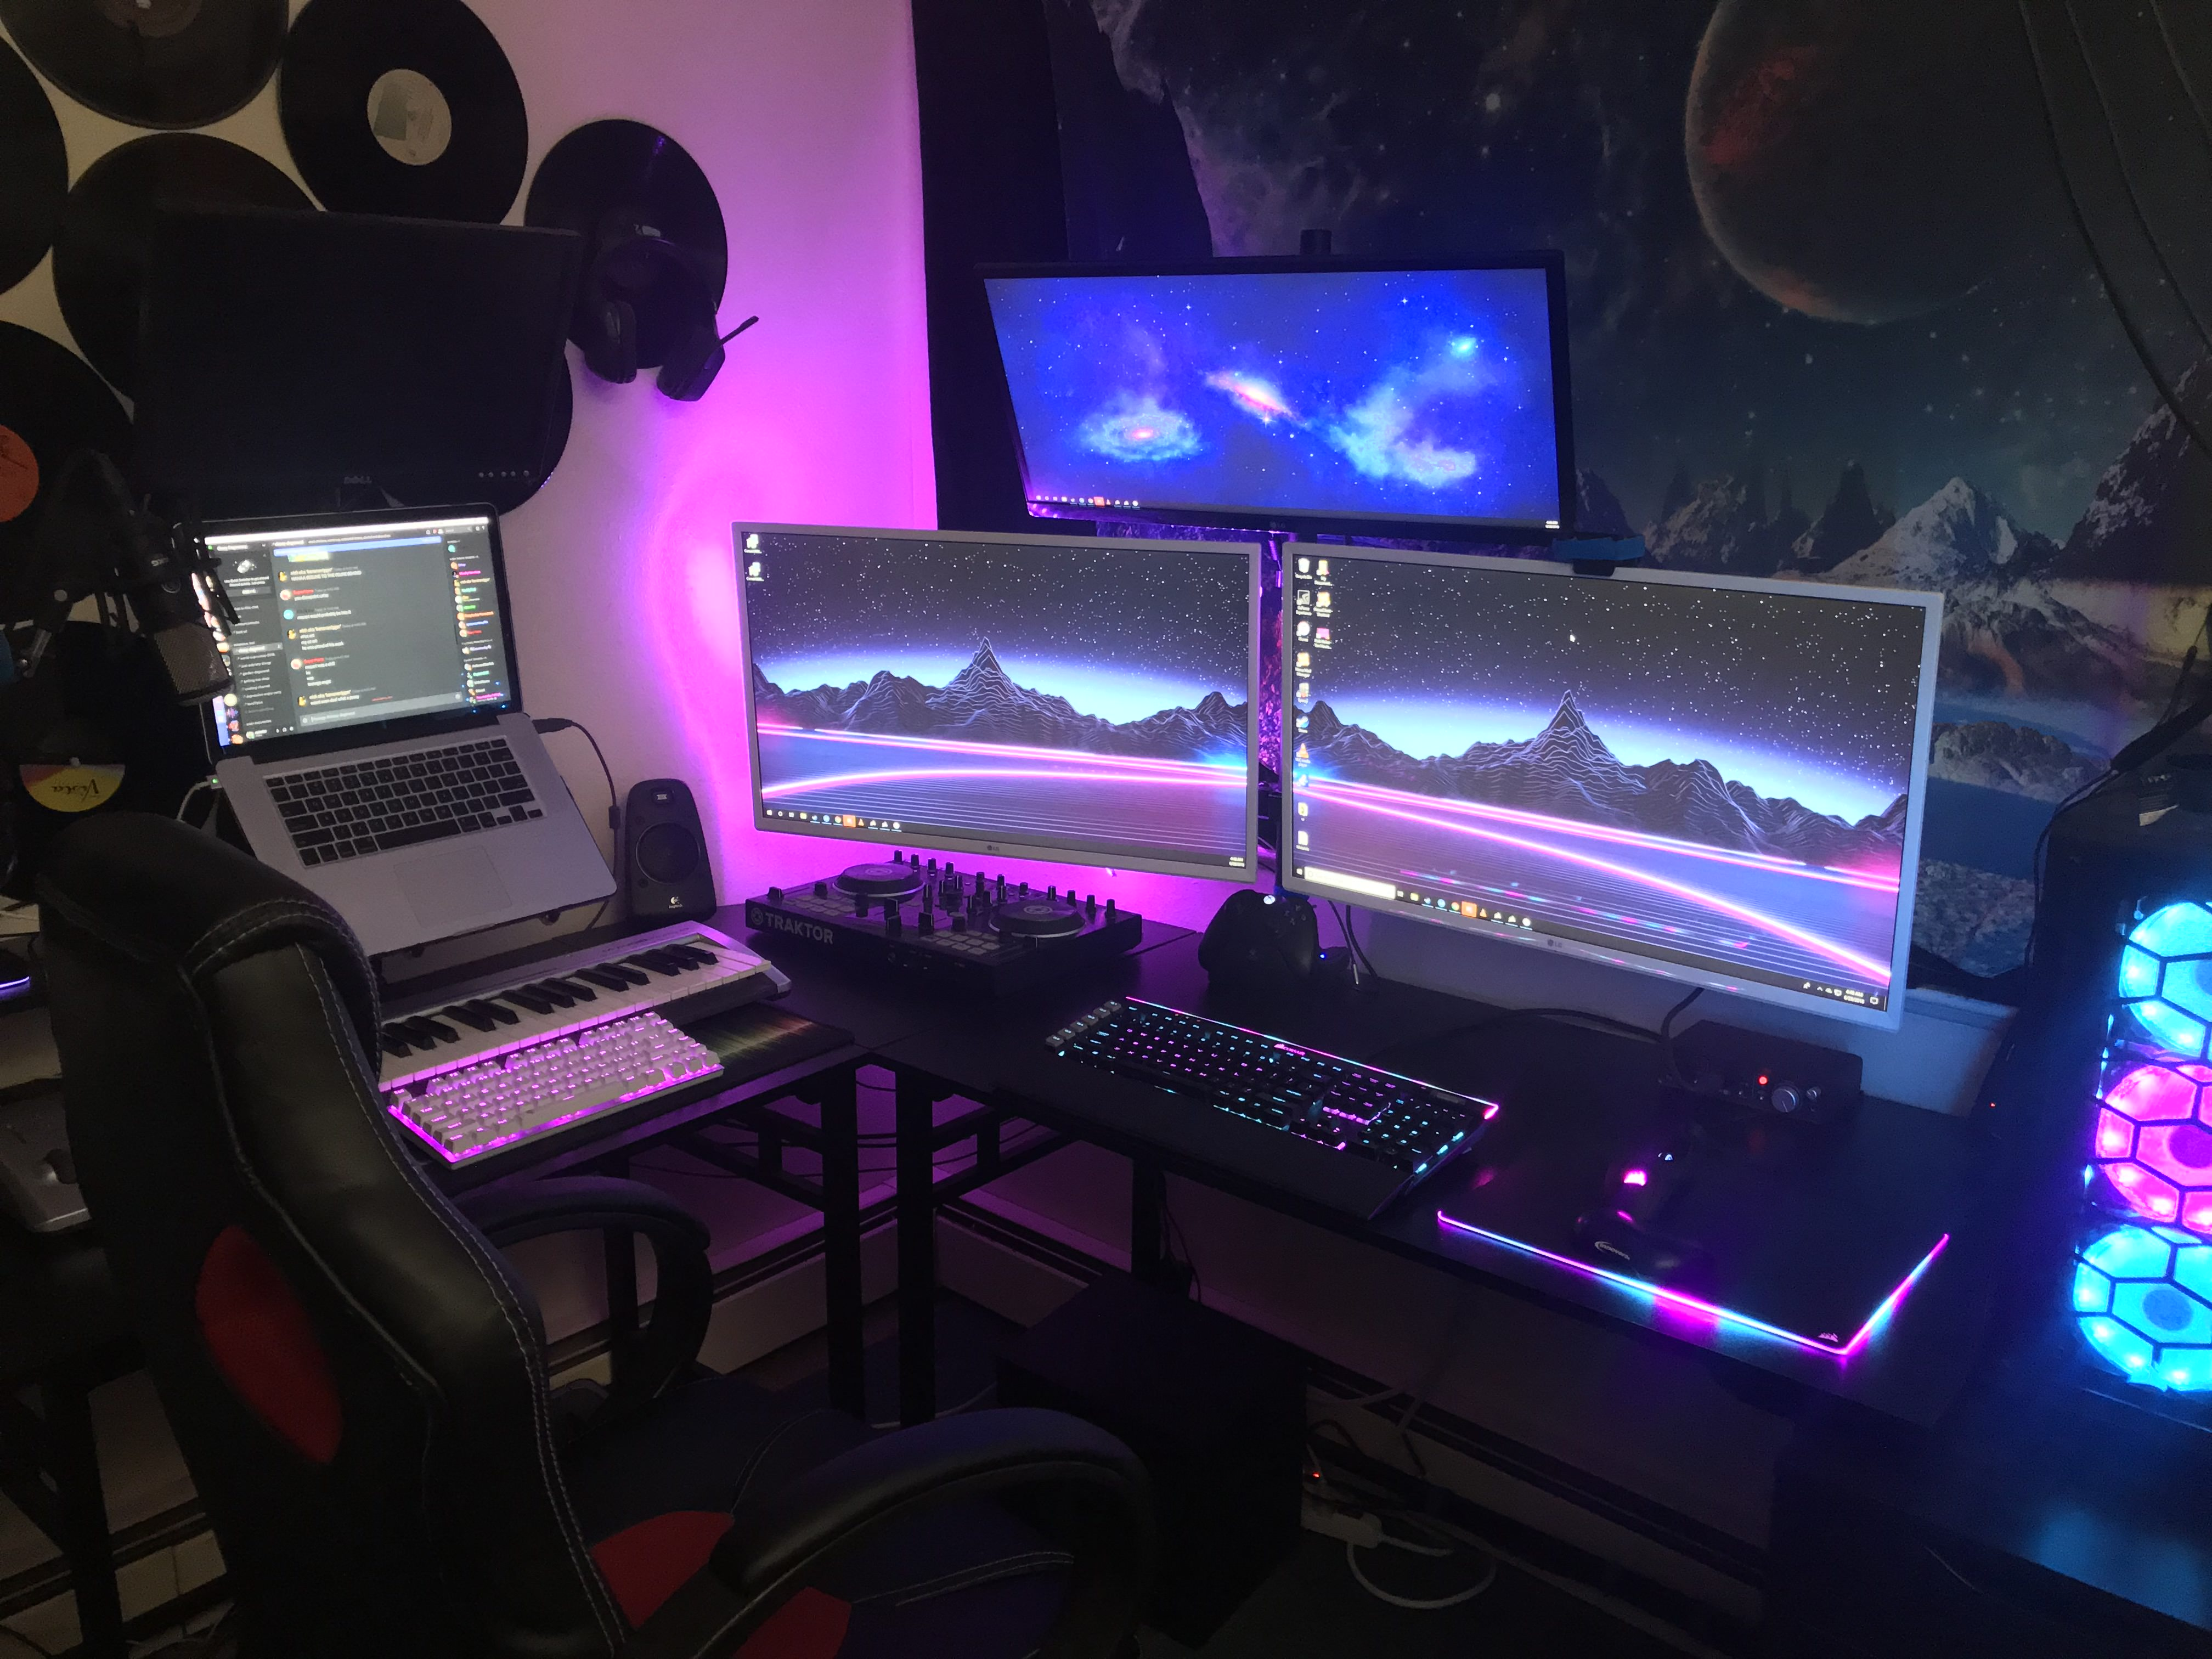Chair (Gaming): (26, 805, 1183, 1654)
Decoration (Generic): (2, 0, 735, 887)
Desk (Generic): (0, 877, 2210, 1656)
Desktop (Windows): (2050, 681, 2210, 1432)
External Microphone (with Boom Arm): (12, 460, 223, 828)
External Speakers (Generic): (618, 781, 725, 913)
External Webcam: (1554, 537, 1648, 579)
Gaming Controller: (1200, 885, 1327, 997)
Headphones (with Microphone): (575, 218, 761, 418)
Keyboard (Gaming): (998, 992, 1496, 1229), (388, 1014, 725, 1168)
Laptop (OSX): (176, 514, 610, 957)
Monitor (Landscape): (1285, 542, 1947, 1033), (735, 518, 1261, 882), (967, 261, 1581, 544), (152, 202, 580, 493)
Monitor (Laptop): (158, 484, 549, 756)
Mouse (Gaming): (1583, 1114, 1756, 1239)
Mousepad (Gaming): (1439, 1110, 1947, 1354)
Musical Instrument (Keyboard/Piano): (0, 917, 787, 1187)
Power Strip: (1301, 1499, 1451, 1570)
